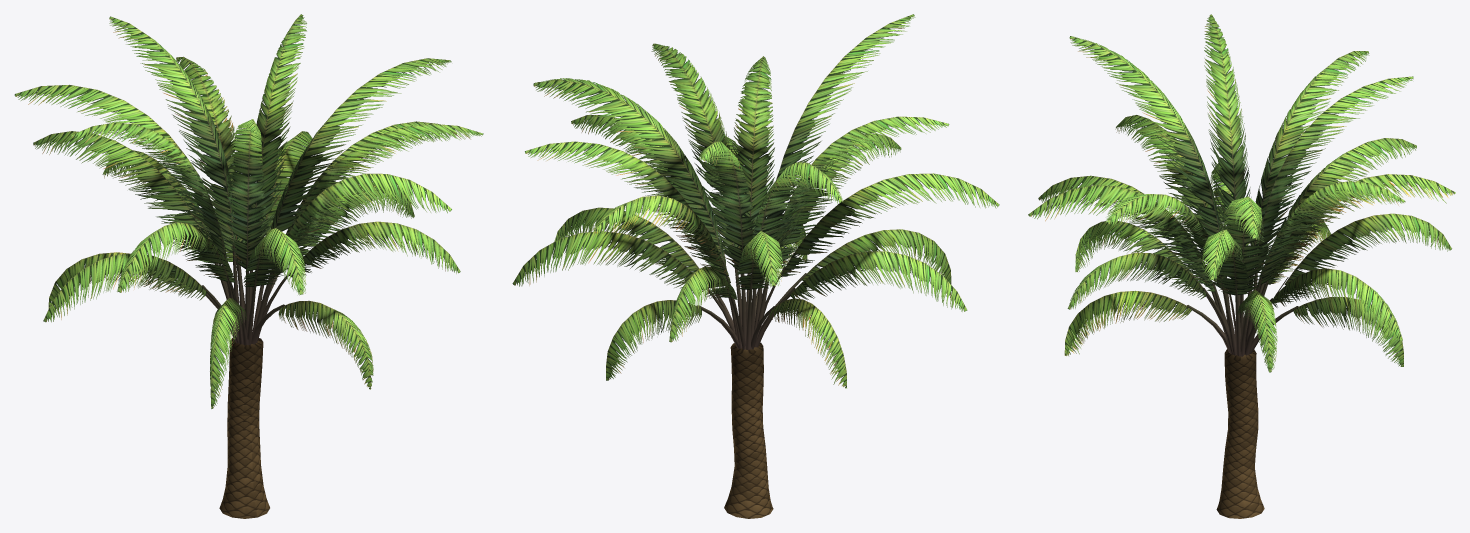
File: mm8_deco_tree03.glb
3 renders of one model, left to right at view 1: azimuth 30°, elevation 25°; view 2: azimuth 150°, elevation 25°; view 3: azimuth 270°, elevation 25°, orthographic. The views are drawn at different scales.
Visible parts, largest first — view 1: Plant; view 2: Plant; view 3: Plant.
Part boxes in pixels (<box>): Plant: <box>14,14,483,518</box>; Plant: <box>512,14,999,518</box>; Plant: <box>1028,14,1455,518</box>.
Bounding box in the file's own units: 10.94 × 11.31 × 10.04.
2 materials, 2 textured.
